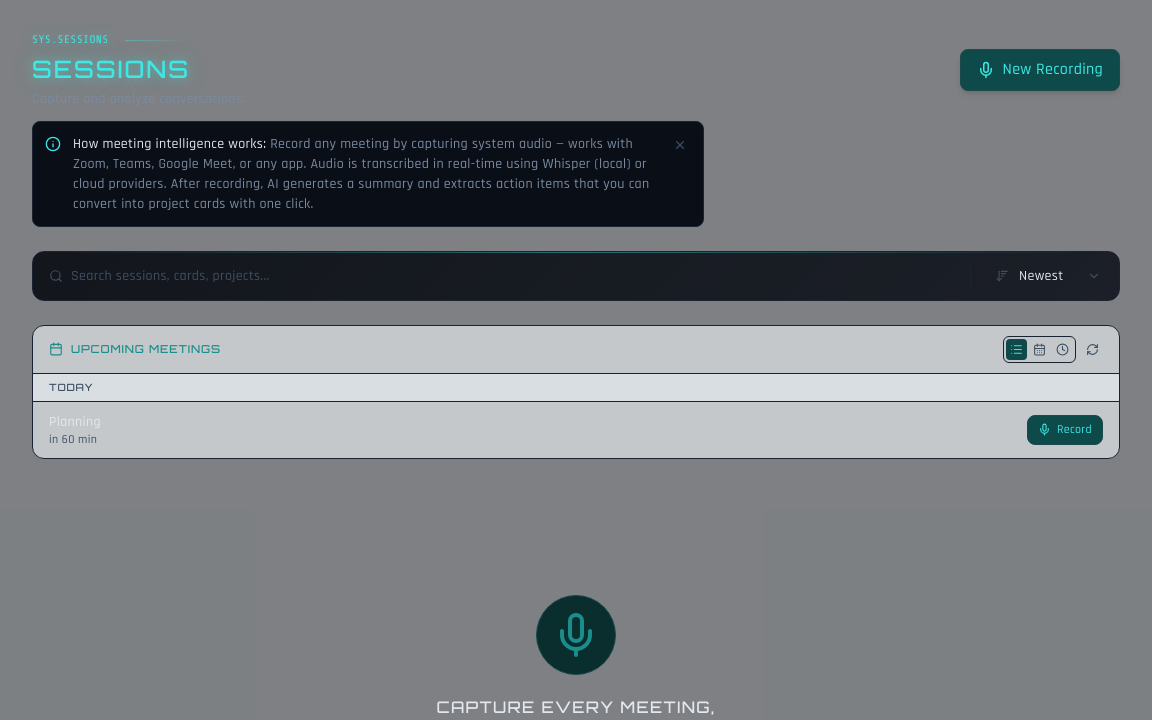
Test: SessionsHome — calendar ribbon (Phase G Task 4) › view preference: switching to Timeline view persists it and renders the hour grid
The image size is (1152, 720).
Expected: the text "Upcoming meetings" is shown, [71, 341, 221, 357]
Click the button named "Timeline view": (1062, 349) [1052, 338, 1073, 360]
(page scrolled)
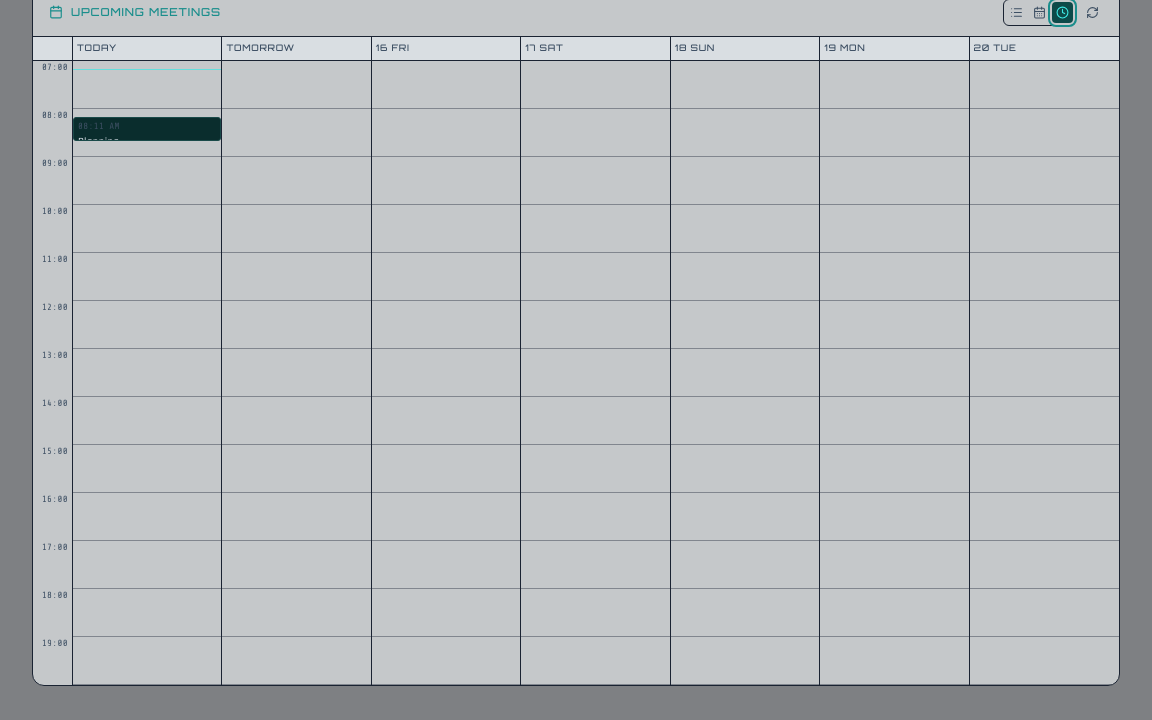
Expected: the element with test id "agenda-timeline" is shown
